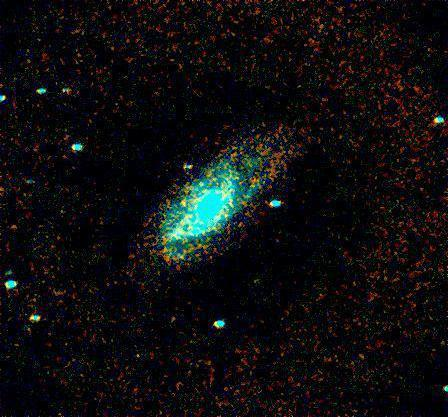star: (171, 186, 201, 216)
